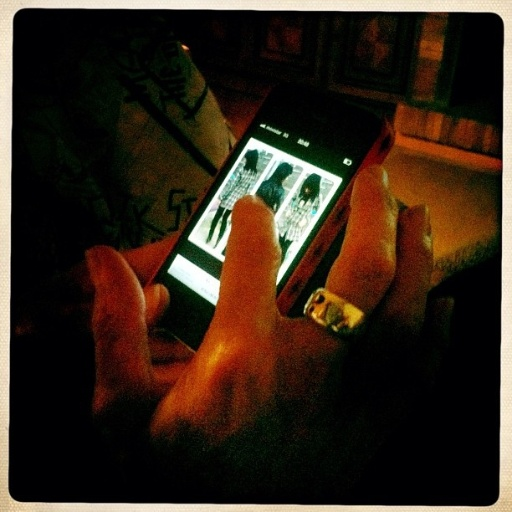hand: (46, 97, 421, 491)
